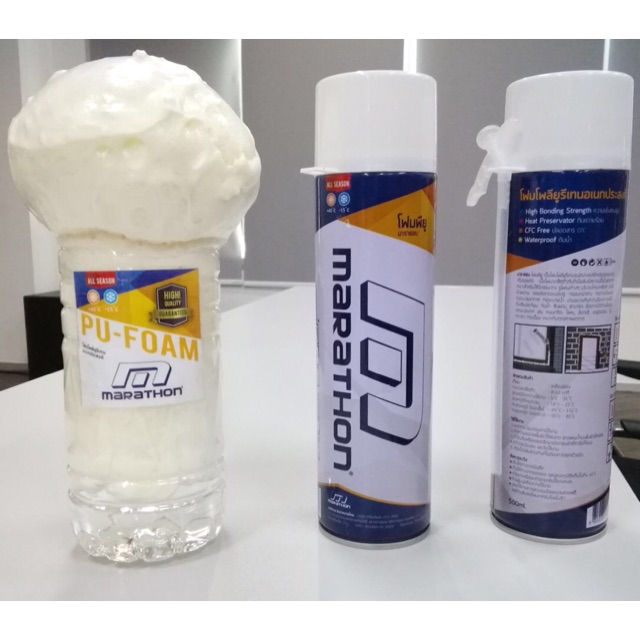Aerosol_cans: (486, 70, 638, 546), (309, 66, 440, 554)
